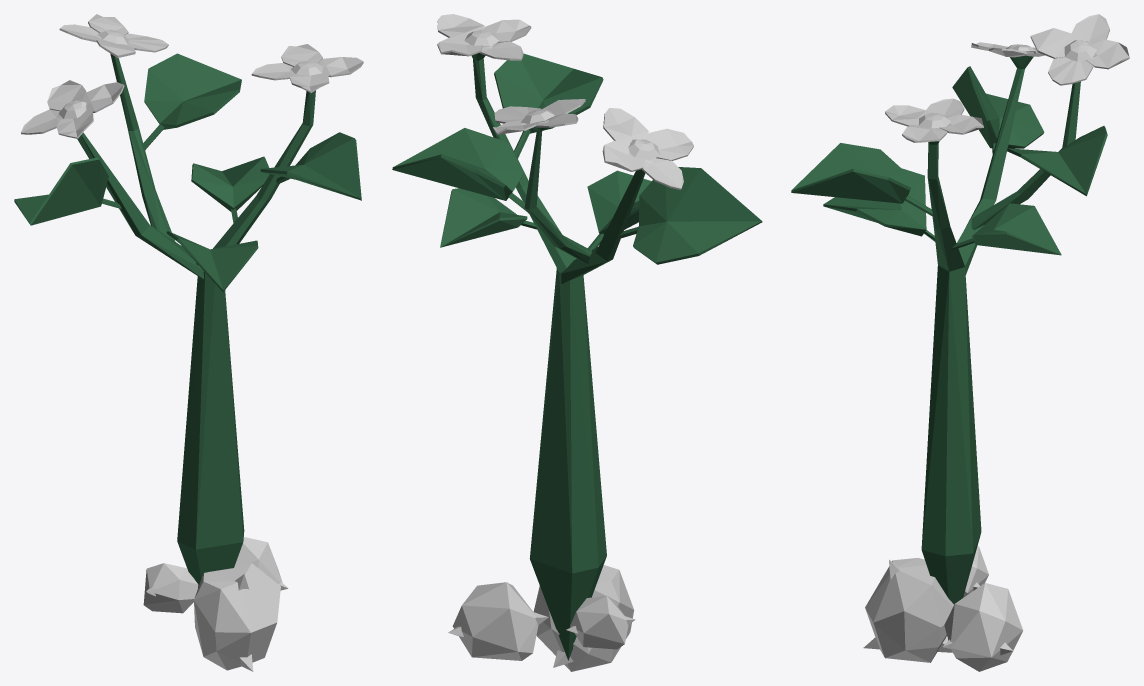
The model's file is mod_vg_potato.fbx.
The picture shows the model from 3 angles, left to right: view 1: azimuth 30°, elevation 25°; view 2: azimuth 150°, elevation 25°; view 3: azimuth 270°, elevation 25°; orthographic projection. The views are drawn at different scales.
Visible parts, largest first — view 1: TigePatate, Patate3, Fleur2, Fleur1, Patate1, Fleur3, Patate2; view 2: TigePatate, Patate2, Fleur2, Patate3, Fleur1, Patate1, Fleur3; view 3: TigePatate, Patate3, Patate2, Fleur3, Fleur1, Fleur2, Patate1.
Boxes of the visible parts, x1,y1,x2,y2 form: TigePatate: (14,53,361,587); Patate3: (194,563,280,671); Fleur2: (21,80,124,138); Fleur1: (251,44,363,92); Patate1: (143,563,198,613); Fleur3: (59,14,168,57); Patate2: (235,537,288,590); TigePatate: (392,52,762,660); Patate2: (448,582,548,660); Fleur2: (602,108,693,190); Patate3: (533,565,634,671); Fleur1: (437,14,531,60); Patate1: (566,595,635,649); Fleur3: (493,99,585,134); TigePatate: (791,55,1107,604); Patate3: (863,558,953,662); Patate2: (943,583,1023,671); Fleur3: (1030,14,1129,85); Fleur1: (885,98,983,142); Fleur2: (971,42,1044,57); Patate1: (963,546,988,597).
Bounding box in the file's own units: 48.45 × 86.54 × 43.86.
